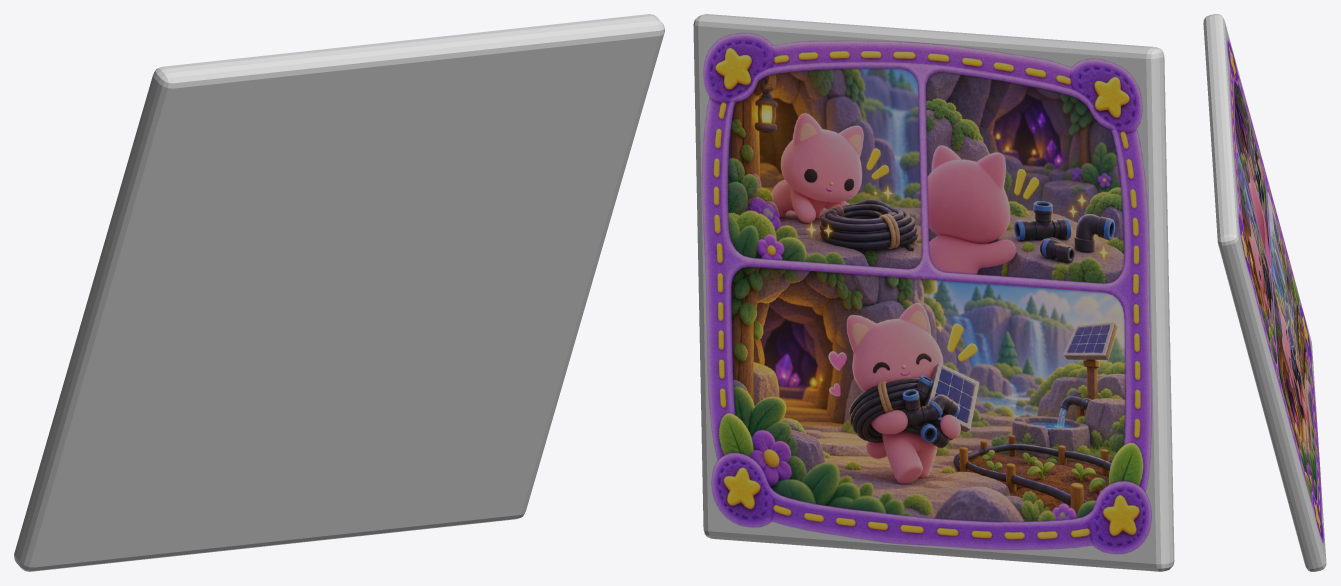
File: memory_9.glb
3 views of the same model, side by side, from view 1: azimuth 30°, elevation 25°; view 2: azimuth 150°, elevation 25°; view 3: azimuth 270°, elevation 25° (orthographic). The views are drawn at different scales.
Parts seen in each view (by area): view 1: memory_9_page; view 2: memory_9_page; view 3: memory_9_page.
Boxes of the visible parts, box(x1,y1,x2,y2) form: memory_9_page: box(14, 14, 664, 571); memory_9_page: box(693, 14, 1174, 571); memory_9_page: box(1203, 14, 1326, 571).
Size of what is drawn, in the model's own units: 0.9063 by 0.8854 by 0.2381.
2 materials, 1 textured.
